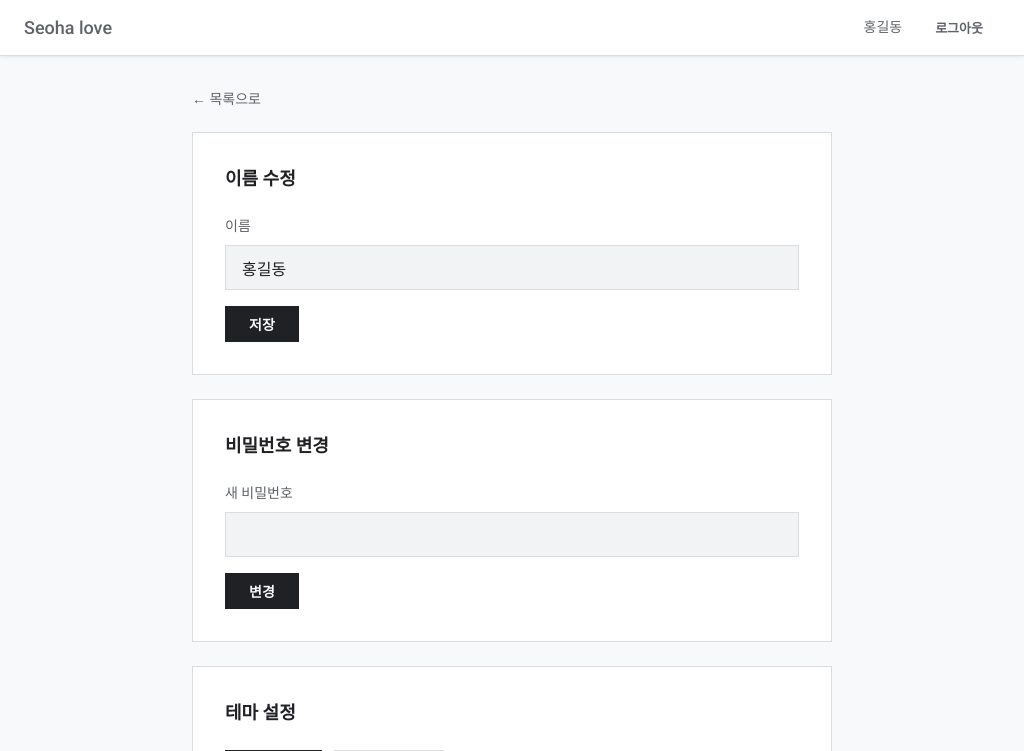
it: ProfilePage › 이름 수정 성공 시 성공 메시지가 표시된다
Replace the text in the field labelled "이름" with "김철수" at (512, 268), box top-left (225, 245), bottom-right (799, 290)
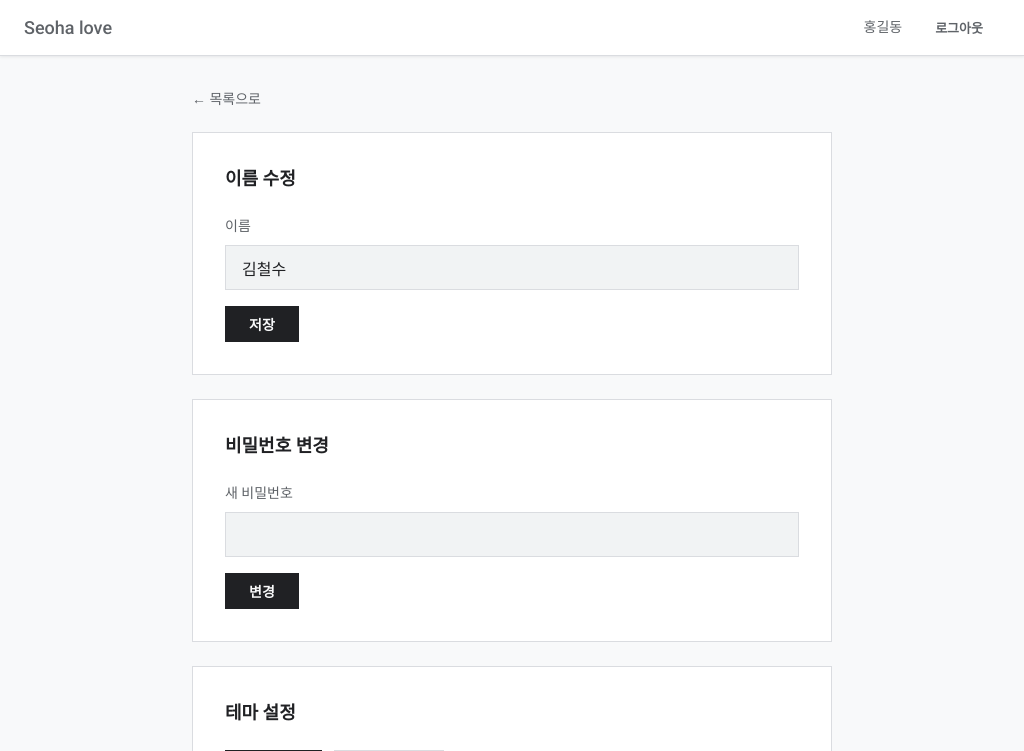
Click the button with test id "save-name-button" at (262, 324), box top-left (225, 306), bottom-right (299, 342)
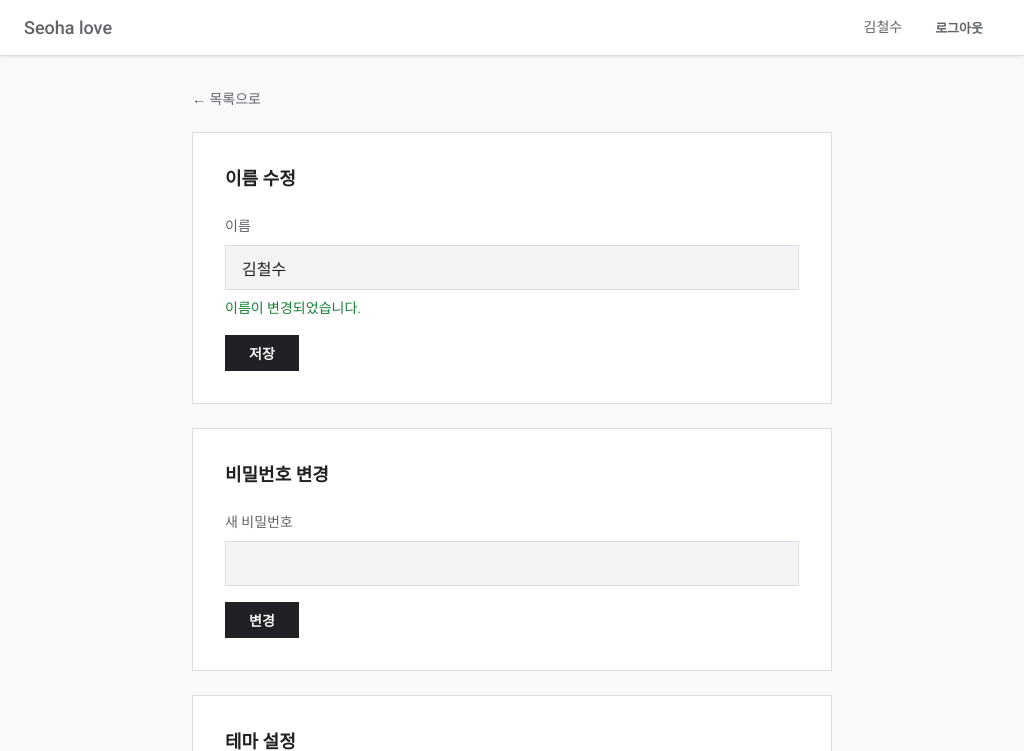
Now the text "이름이 변경되었습니다." is shown, box top-left (225, 300), bottom-right (361, 316)
